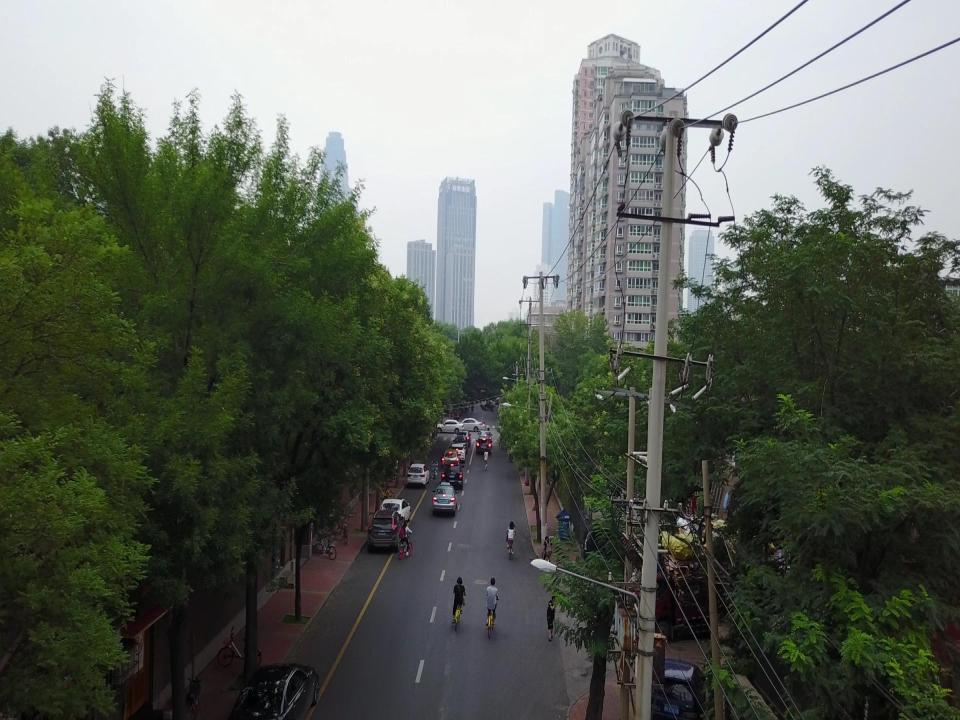car: (228, 665, 320, 720), (645, 657, 706, 720), (367, 509, 405, 550), (432, 481, 458, 516), (381, 497, 411, 526), (442, 461, 464, 491), (406, 463, 430, 490), (435, 419, 464, 434), (442, 447, 460, 470), (475, 434, 493, 455), (457, 418, 482, 433), (449, 444, 465, 461), (454, 435, 468, 453), (457, 430, 471, 446), (479, 430, 493, 443)
